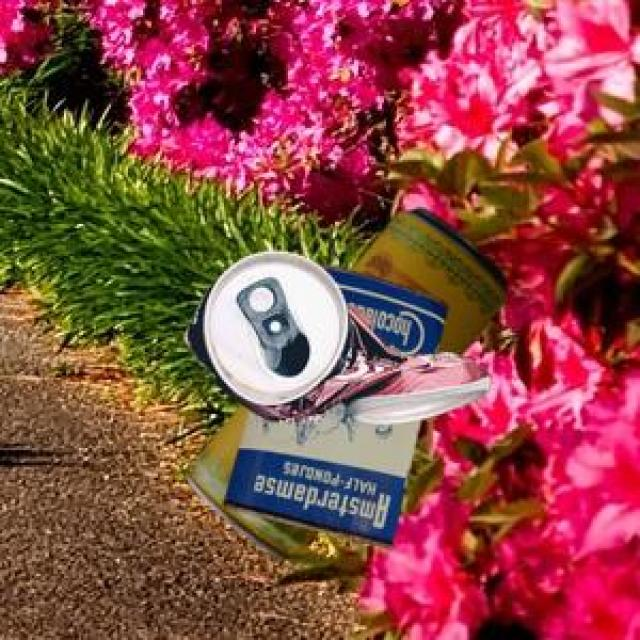logam: (221, 261, 445, 545), (182, 249, 487, 421), (349, 208, 502, 421), (185, 400, 327, 556)
